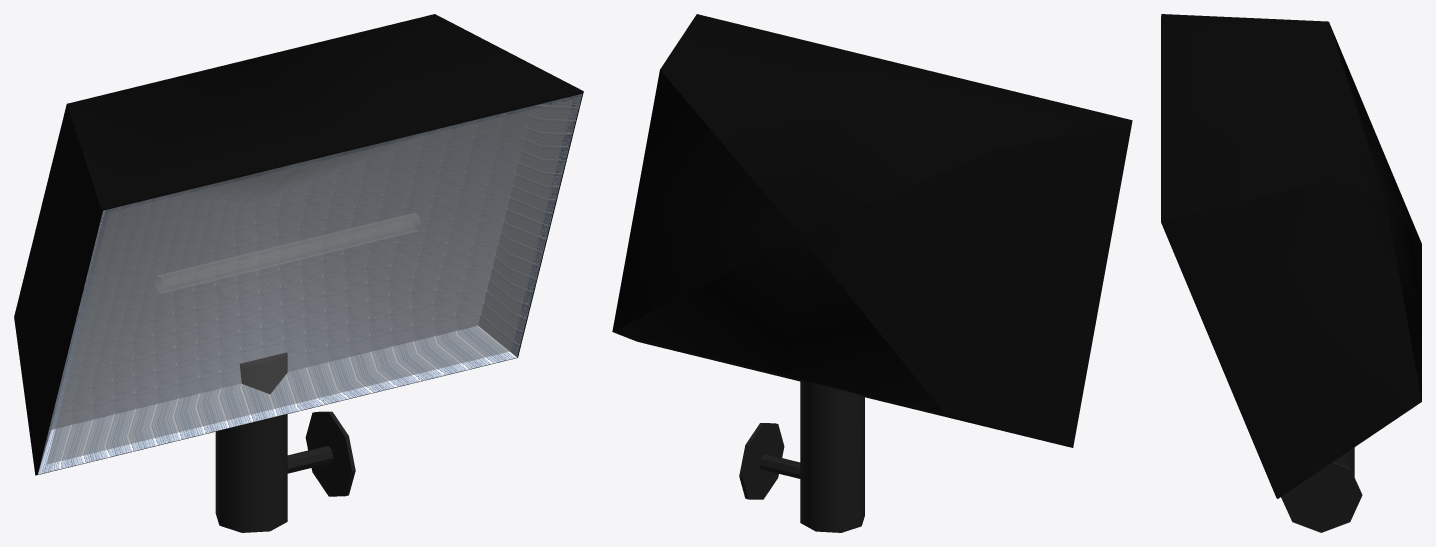
File: scheinwerfer.FBX
3 views of the same model, side by side, from view 1: azimuth 30°, elevation 25°; view 2: azimuth 150°, elevation 25°; view 3: azimuth 270°, elevation 25° (orthographic). The views are drawn at different scales.
Visible parts, largest first — view 1: Headlight, Anschluss; view 2: Headlight, Anschluss; view 3: Headlight, Anschluss.
Boxes of the visible parts, x1,y1,x2,y2 form: Headlight: (14, 14, 583, 475); Anschluss: (215, 352, 355, 532); Headlight: (612, 14, 1132, 447); Anschluss: (739, 380, 864, 532); Headlight: (1161, 14, 1421, 498); Anschluss: (1281, 447, 1362, 532).
Bounding box in the file's own units: 30 × 27.04 × 15.92.
5 materials, 1 textured.
